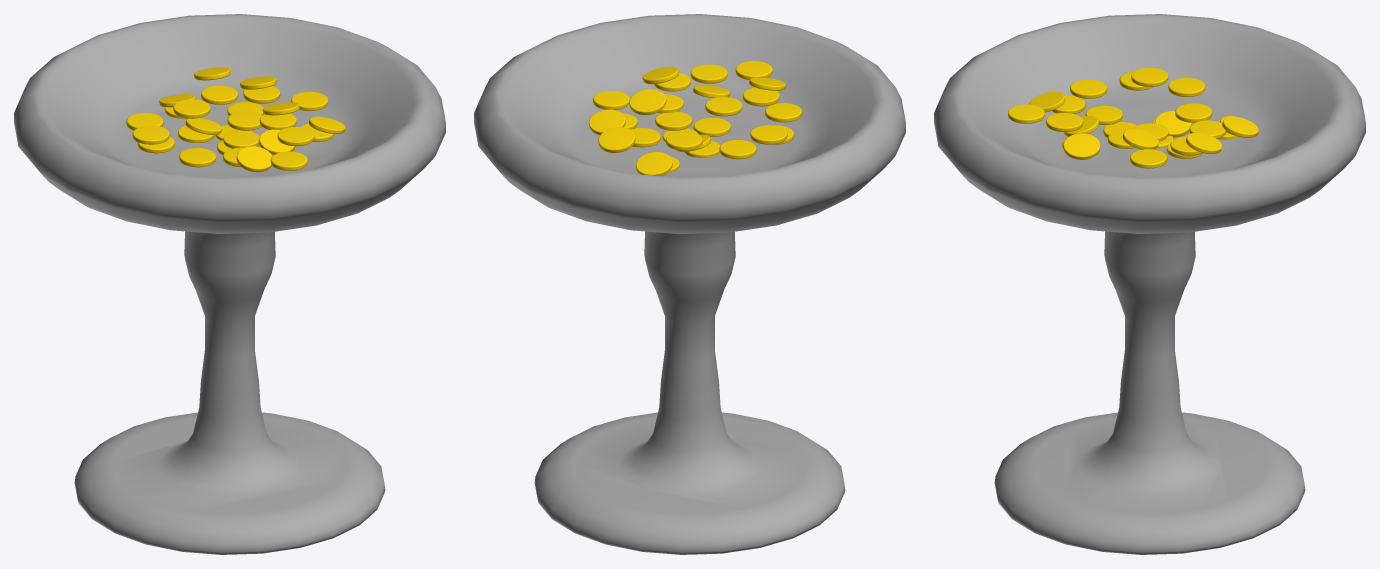
The model's file is Plate.fbx.
3 renders of one model, left to right at view 1: azimuth 30°, elevation 25°; view 2: azimuth 150°, elevation 25°; view 3: azimuth 270°, elevation 25°, orthographic.
Parts seen in each view (by area): view 1: group_12, ID103, ID91, group_27, group_10, group_13, group_23, group_18, group_9, group_6, group_20, group_29 (+3 smaller); view 2: group_12, ID103, ID91, group_2, group_19, group_21, group_26, group_25, group_13, group_9, group_6, group_15 (+6 smaller); view 3: group_12, ID103, ID91, group_7, group_20, group_18, group_23, group_15, group_9, group_6, group_13, group_2 (+4 smaller).
Boxes of the visible parts, <box> form: group_12: <box>14,14,445,494</box>; ID103: <box>74,412,385,554</box>; ID91: <box>159,101,310,170</box>; group_27: <box>236,146,272,172</box>; group_10: <box>201,85,238,104</box>; group_13: <box>173,99,210,118</box>; group_23: <box>179,148,216,167</box>; group_18: <box>270,151,307,170</box>; group_9: <box>277,127,314,146</box>; group_6: <box>132,125,169,144</box>; group_20: <box>291,91,328,111</box>; group_29: <box>227,111,261,130</box>; group_12: <box>474,14,905,494</box>; ID103: <box>534,412,845,554</box>; ID91: <box>618,100,769,170</box>; group_2: <box>598,127,635,152</box>; group_19: <box>629,89,666,115</box>; group_21: <box>636,152,672,175</box>; group_26: <box>589,109,625,134</box>; group_25: <box>705,97,742,116</box>; group_13: <box>665,131,702,150</box>; group_9: <box>690,64,727,83</box>; group_6: <box>750,125,787,144</box>; group_15: <box>719,140,756,159</box>; group_12: <box>934,14,1365,494</box>; ID103: <box>994,412,1305,554</box>; ID91: <box>1067,100,1232,170</box>; group_7: <box>1063,133,1100,159</box>; group_20: <box>1130,149,1167,168</box>; group_18: <box>1008,104,1044,123</box>; group_23: <box>1070,79,1107,98</box>; group_15: <box>1168,77,1205,96</box>; group_9: <box>1046,112,1083,132</box>; group_6: <box>1131,67,1168,86</box>; group_13: <box>1175,103,1212,122</box>; group_2: <box>1222,116,1258,137</box>.
Bounding box in the file's own units: 21.16 × 21.16 × 21.53.
